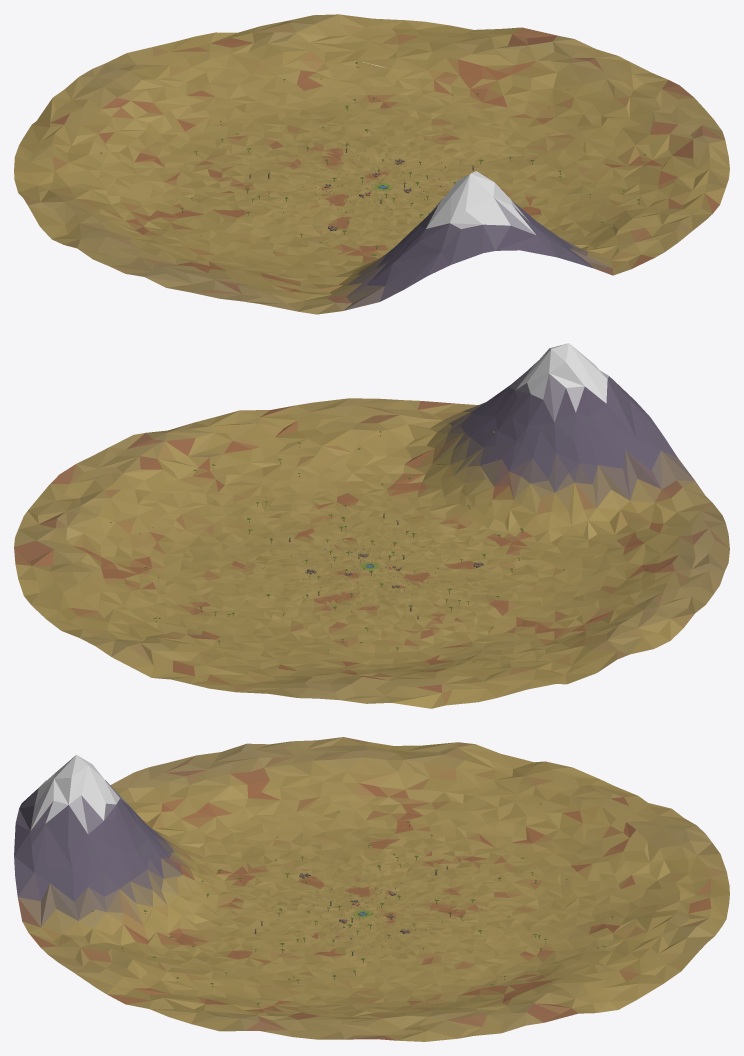
The model's file is world_zoo_lite.glb.
The picture shows the model from 3 angles, top to bottom: view 1: azimuth 30°, elevation 25°; view 2: azimuth 150°, elevation 25°; view 3: azimuth 270°, elevation 25°; orthographic projection.
Parts seen in each view (by area): view 1: Sector5, Sector4, Sector6, Sector3, Sector7, Sector1, Sector0, Sector2; view 2: Sector1, Sector3, Sector2, Sector4, Sector7, Sector0, Sector5, Sector6; view 3: Sector2, Sector0, Sector7, Sector6, Sector5, Sector3, Sector1, Sector4.
Part boxes in pixels (x1,y1,x2,y2): Sector5: (196,14,472,184); Sector4: (372,27,679,185); Sector6: (32,36,371,185); Sector3: (373,85,729,213); Sector7: (14,124,370,244); Sector1: (260,171,556,314); Sector0: (63,185,371,303); Sector2: (372,185,712,275); Sector1: (373,343,721,570); Sector3: (60,405,370,570); Sector2: (289,374,523,570); Sector4: (14,474,370,595); Sector7: (372,571,683,705); Sector0: (373,511,729,627); Sector5: (24,571,369,683); Sector6: (190,570,455,708); Sector2: (14,805,370,994); Sector0: (128,737,375,910); Sector7: (358,742,637,910); Sector6: (372,793,729,912); Sector5: (373,891,729,1009); Sector3: (107,910,383,1039); Sector1: (14,755,371,912); Sector4: (364,910,617,1041).
Size of the model in its own units: 1280 by 264 by 1280.
